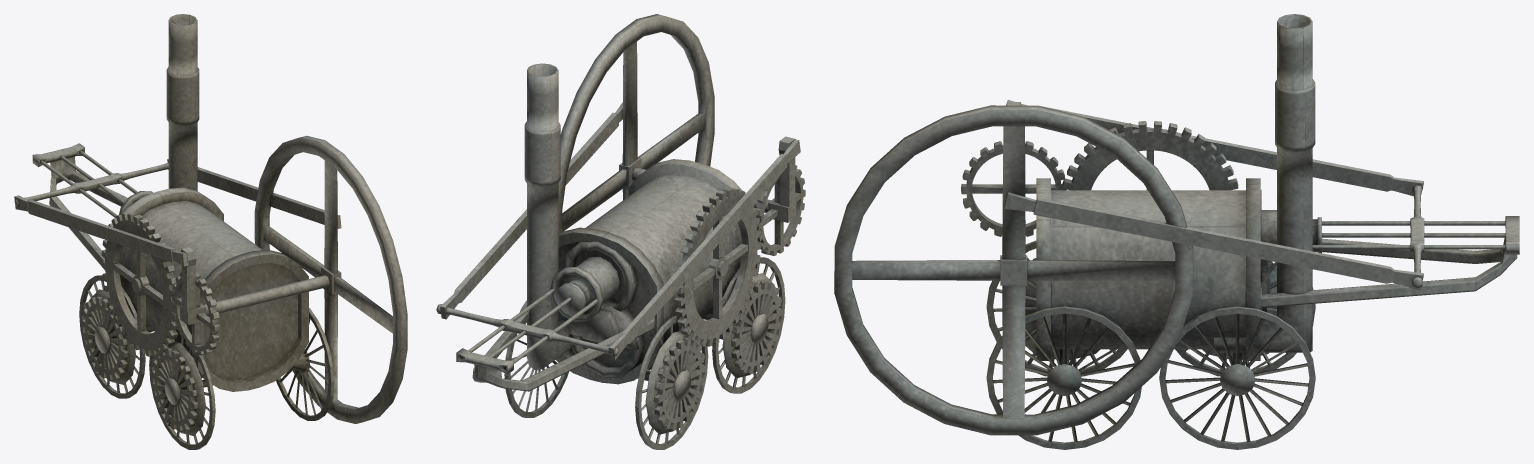
The model's file is train.fbx.
The picture shows the model from 3 angles, left to right: view 1: azimuth 30°, elevation 25°; view 2: azimuth 150°, elevation 25°; view 3: azimuth 270°, elevation 25°; orthographic projection. The views are drawn at different scales.
Parts seen in each view (by area): view 1: train; view 2: train; view 3: train.
Part boxes in pixels (x1=…): train: x1=14, y1=14, x2=407, y2=449; train: x1=436, y1=14, x2=805, y2=449; train: x1=834, y1=14, x2=1519, y2=449.
Size of the model in its own units: 2.21 by 4.32 by 6.49.
Materials: 1 (1 with a texture image).
